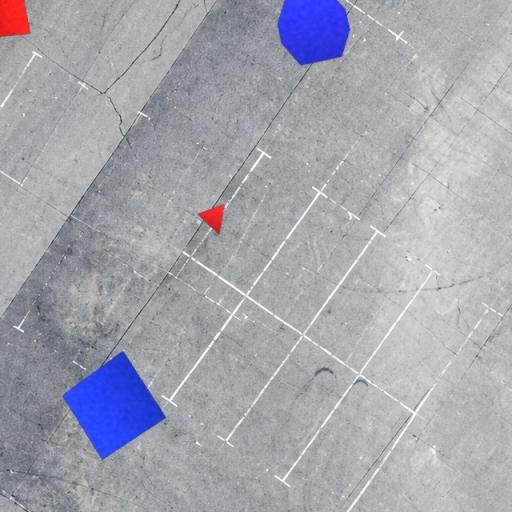BLUE_SQUARE: (62, 350, 167, 461)
RED_SQUARE: (0, 0, 31, 38)
